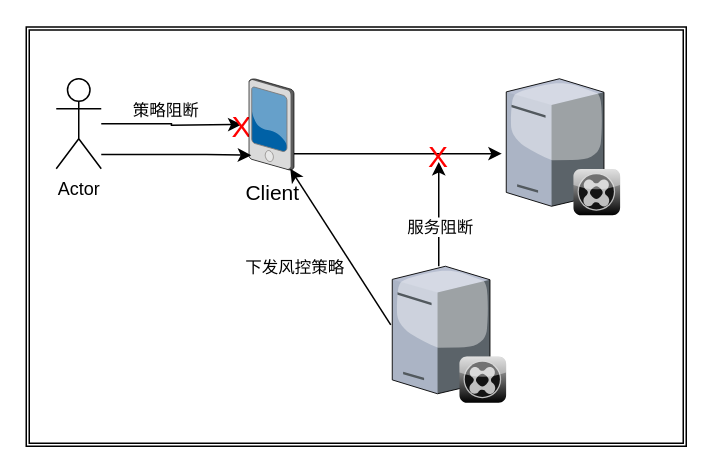
The diagram is 713 pixels wide and 473 high, and some of its shapes have lost their labels. Each missing label, with the centre of its shape:
"认证服务" goes at pixel 563 146.
"风控平台" goes at pixel 449 334.
